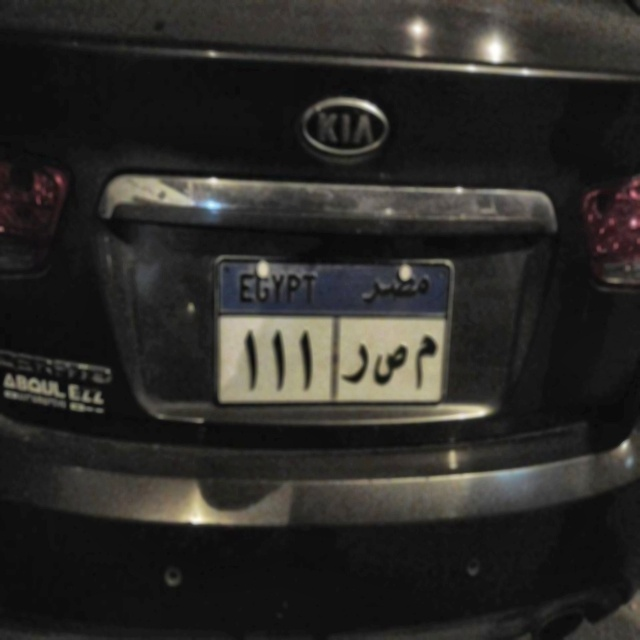License Plate: (213, 252, 455, 411)
